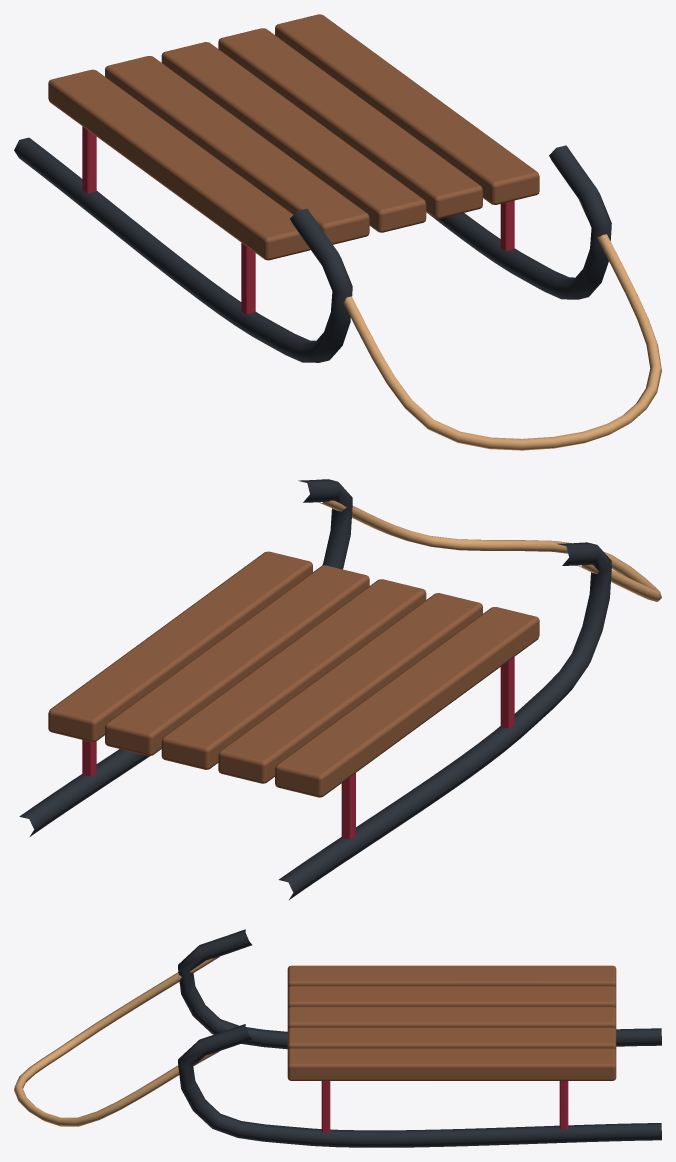
The model's file is christmas-storybook-wooden-pull-sled-809a7fa8__18776.glb.
The picture shows the model from 3 angles, top to bottom: view 1: azimuth 30°, elevation 25°; view 2: azimuth 150°, elevation 25°; view 3: azimuth 270°, elevation 25°; orthographic projection. The views are drawn at different scales.
Parts seen in each view (by area): view 1: oak, ink, biscuit, berry; view 2: oak, ink, biscuit, berry; view 3: oak, ink, biscuit, berry.
Boxes of the visible parts, x1,y1,x2,y2 form: oak: (48,14,539,260); ink: (14,137,611,362); biscuit: (343,198,661,450); berry: (82,126,514,314); oak: (48,551,539,797); ink: (19,479,611,900); biscuit: (318,500,661,601); berry: (82,657,514,839); oak: (287,965,616,1080); ink: (178,929,661,1147); biscuit: (14,956,219,1126); berry: (321,1081,568,1132).
Size of the model in its own units: 0.6899 by 0.3796 by 1.85.
